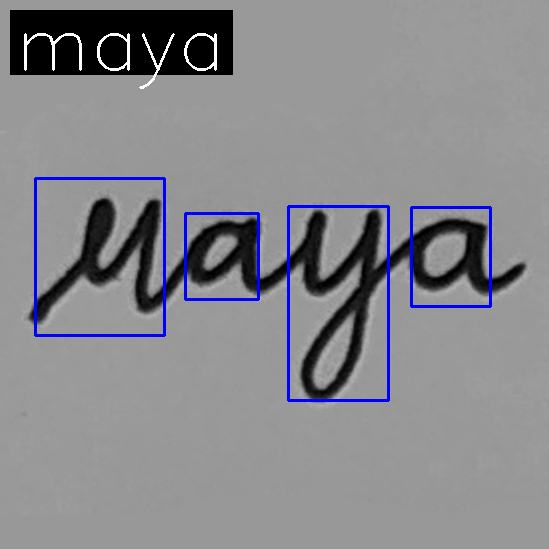a: (404, 212, 500, 300), (181, 212, 274, 294)
r: (68, 189, 168, 320)
y: (292, 201, 385, 404)
